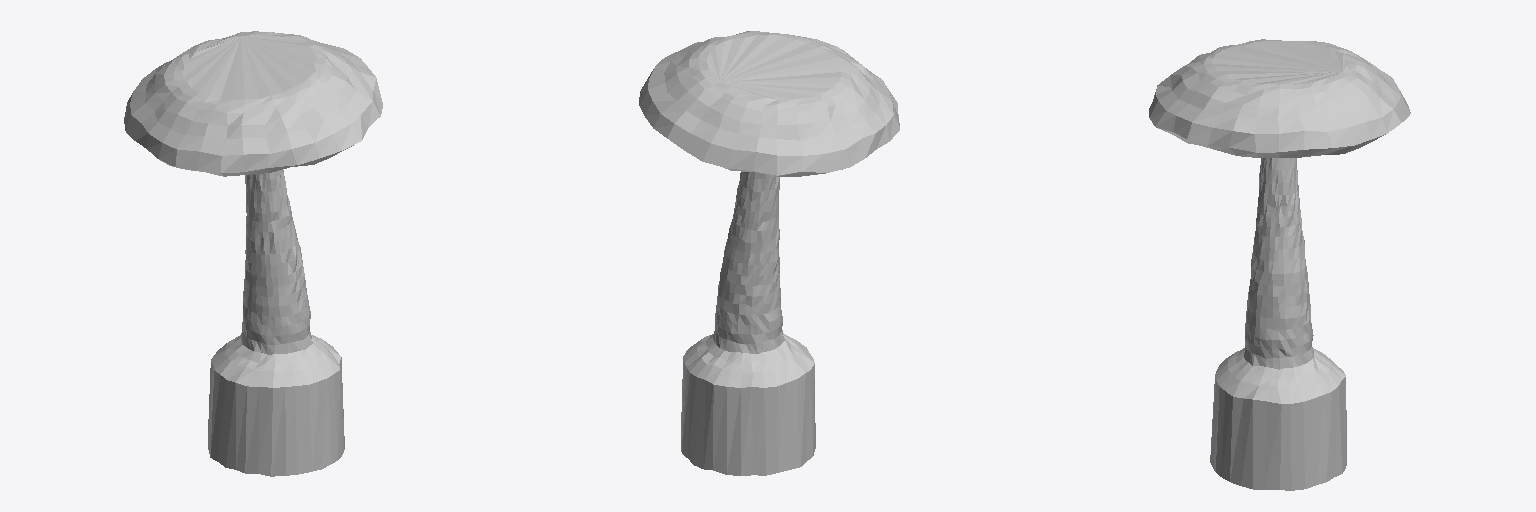
File: mushroom.obj
The picture shows the model from 3 angles: view 1: azimuth 30°, elevation 25°; view 2: azimuth 150°, elevation 25°; view 3: azimuth 270°, elevation 25°; orthographic projection.
Visible parts, largest first — view 1: Cylinder; view 2: Cylinder; view 3: Cylinder.
Boxes of the visible parts, x1,y1,x2,y2 form: Cylinder: [124, 31, 382, 476]; Cylinder: [639, 31, 899, 475]; Cylinder: [1149, 39, 1410, 490].
Bounding box in the file's own units: 11.48 × 19.68 × 11.86.